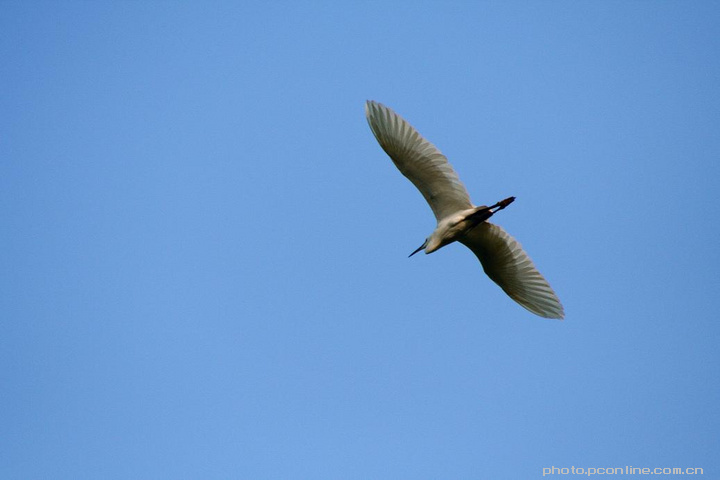bird: (363, 96, 566, 323)
